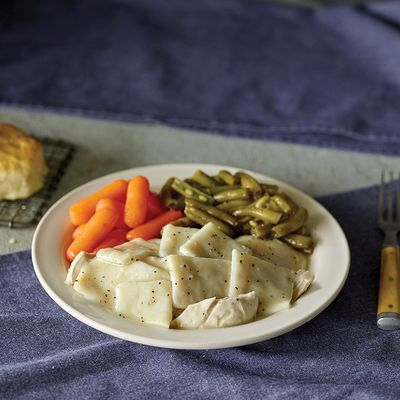burger: (375, 178, 400, 331)
sushi: (21, 164, 351, 351)
